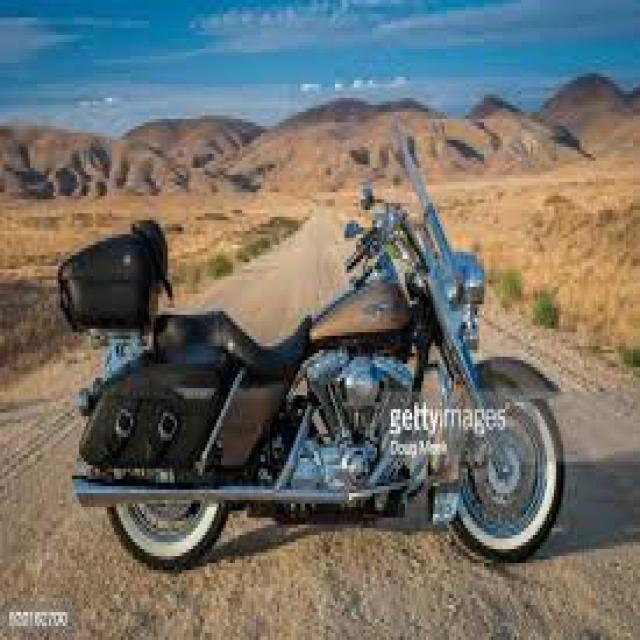MOTORCYCLE: (72, 229, 575, 573)
